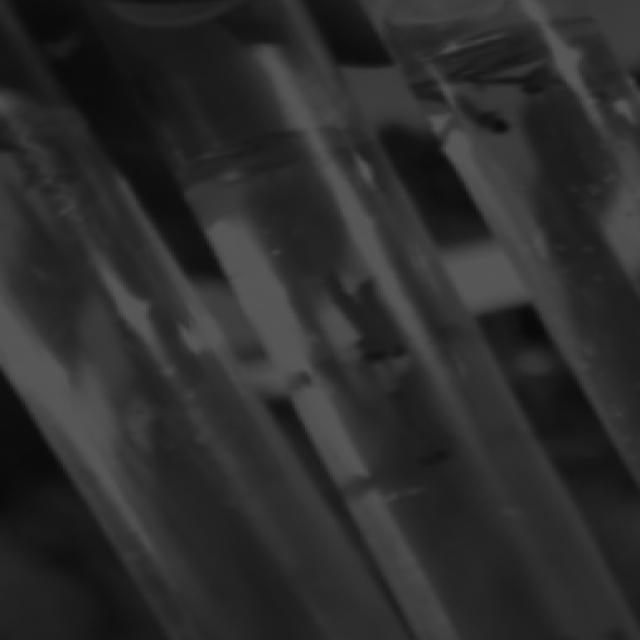larvas: (326, 275, 390, 364), (394, 388, 456, 468), (355, 281, 408, 357), (447, 87, 514, 138), (460, 52, 535, 88), (520, 60, 558, 97)
